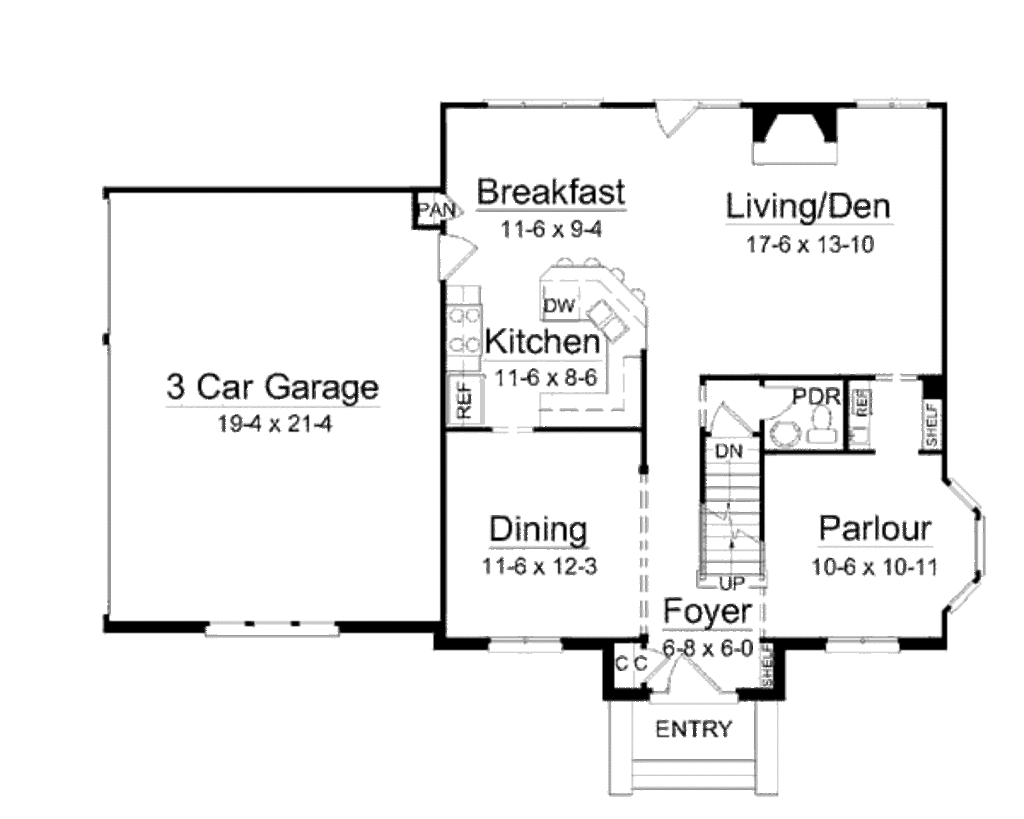door: (436, 231, 481, 284), (667, 651, 719, 695), (653, 99, 705, 139), (709, 403, 755, 437), (761, 386, 800, 420)
large_sink: (808, 404, 839, 446)
small_sink: (769, 419, 805, 447)
stairs: (698, 431, 768, 594)
twin_sink: (581, 297, 635, 343)
window: (945, 481, 989, 614), (204, 617, 341, 640), (481, 91, 608, 111), (820, 635, 900, 659), (485, 633, 566, 656), (855, 97, 929, 110)
